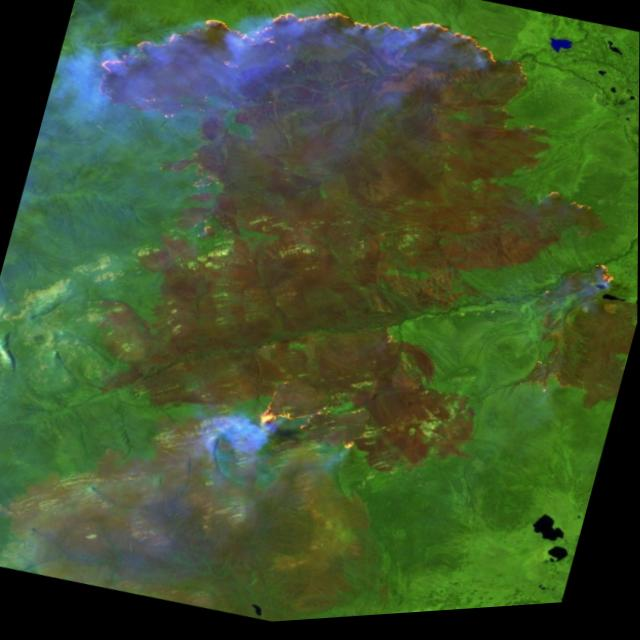fire: (72, 0, 520, 218), (236, 375, 376, 479), (567, 259, 634, 313)
